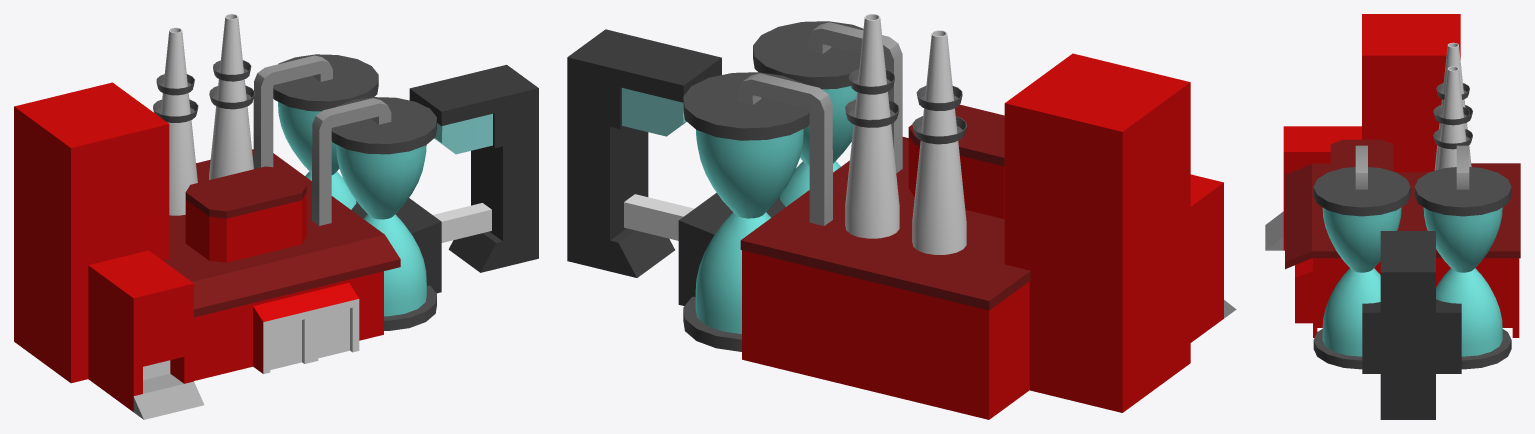
Rendered from fabryka.fbx.
3 views of the same model, side by side, from view 1: azimuth 30°, elevation 25°; view 2: azimuth 150°, elevation 25°; view 3: azimuth 270°, elevation 25° (orthographic). The views are drawn at different scales.
Visible parts, largest first — view 1: glowny; view 2: glowny; view 3: glowny.
Boxes of the visible parts, bbox=[...] form: glowny: bbox=[14, 14, 538, 419]; glowny: bbox=[567, 14, 1236, 419]; glowny: bbox=[1265, 14, 1520, 419].
Bounding box in the file's own units: 4859 × 2677 × 2589.
